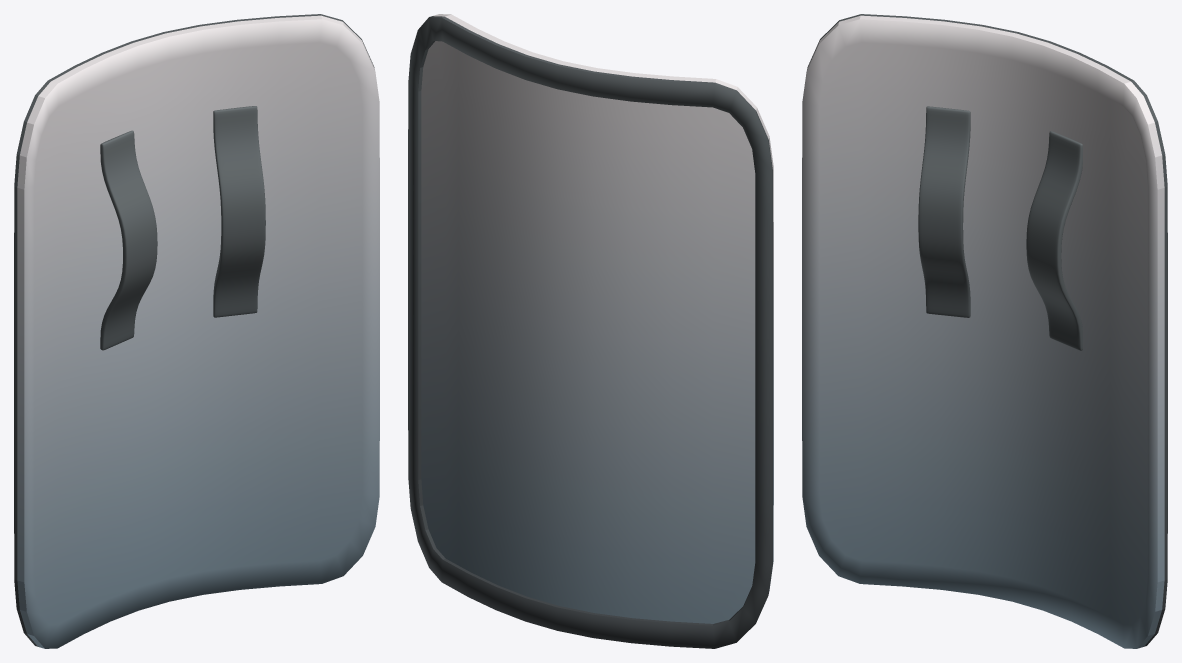
Rendered from Shield.fbx.
3 views of the same model, side by side, from view 1: azimuth 30°, elevation 25°; view 2: azimuth 150°, elevation 25°; view 3: azimuth 330°, elevation 25° (orthographic).
Parts seen in each view (by area): view 1: Shield; view 2: Shield; view 3: Shield.
Boxes of the visible parts, box(x1,y1,x2,y2) form: Shield: box(14, 14, 379, 648); Shield: box(408, 14, 773, 648); Shield: box(802, 14, 1167, 648).
Bounding box in the file's own units: 106 × 157 × 19.43.
Materials: 1 (1 with a texture image).
